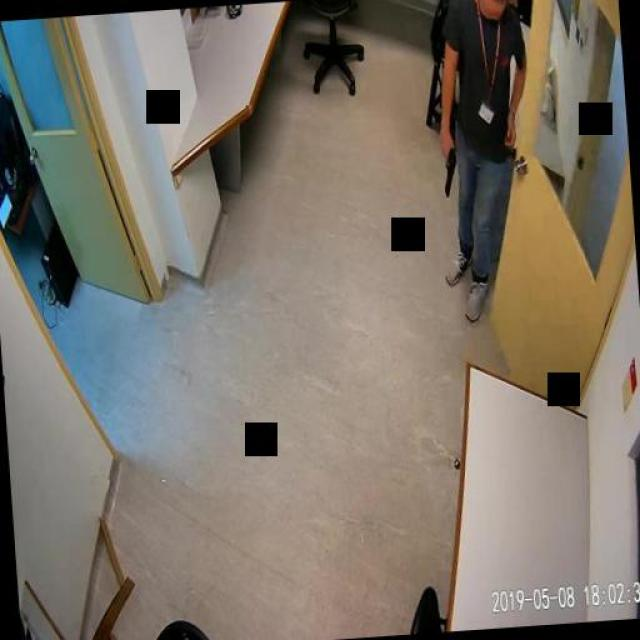gun: (441, 142, 459, 196)
